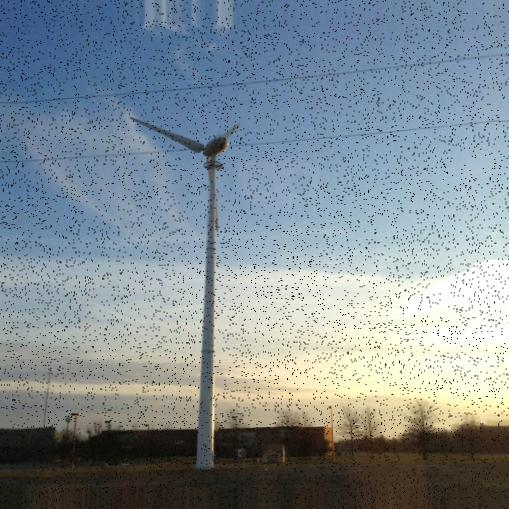wind turbine: (130, 116, 242, 467)
